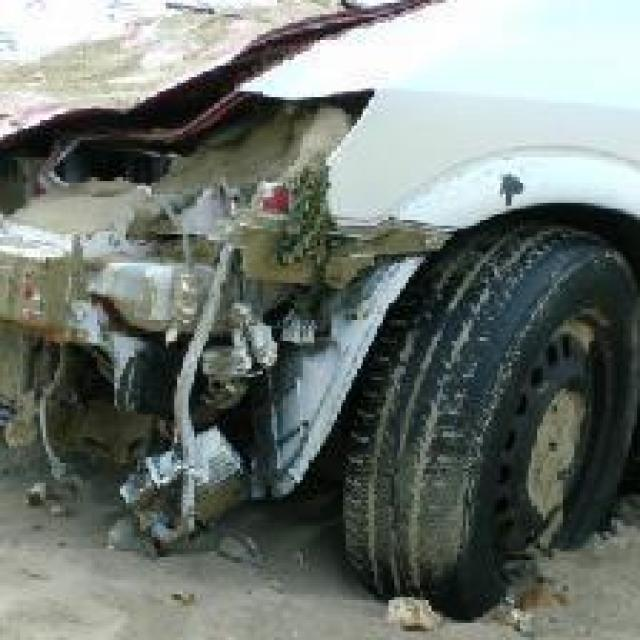damaged: (0, 0, 460, 586), (492, 163, 528, 208)
